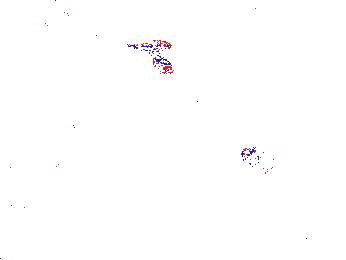X-ray fish: (238, 145, 285, 175)
red belly glassfish: (125, 39, 173, 55), (151, 57, 176, 76)
redtail glassfish: (44, 17, 111, 47)
